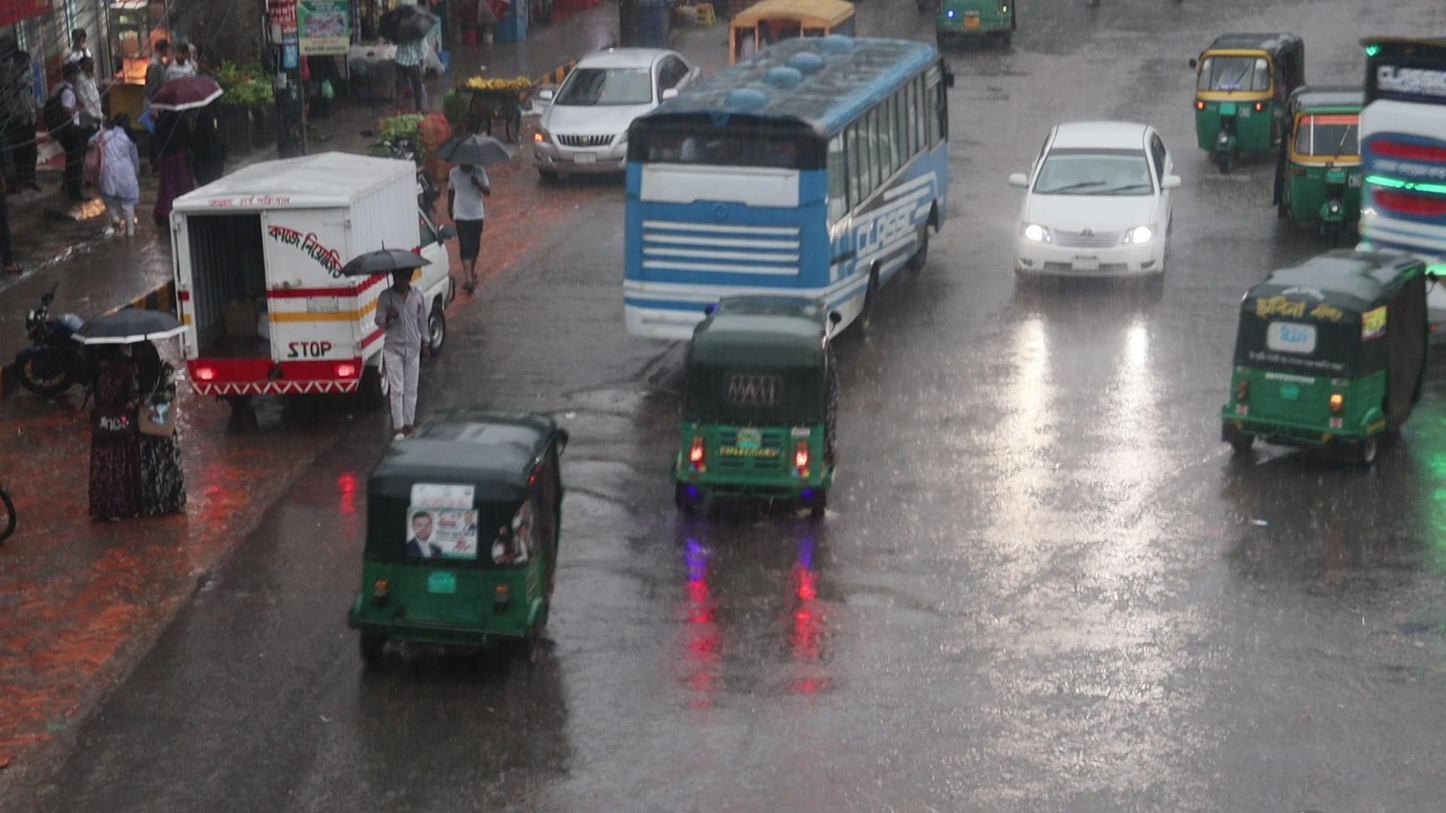Bus: (618, 29, 947, 355)
Car: (1009, 112, 1173, 286), (531, 40, 695, 191)
